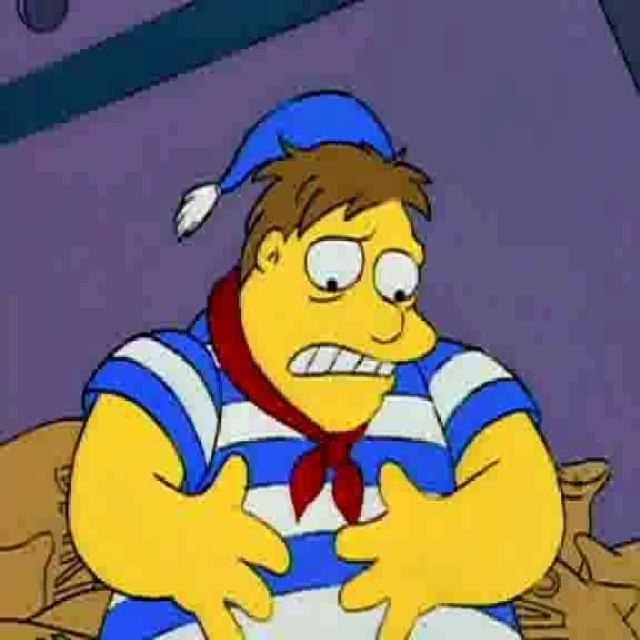Barney Gumble: (233, 134, 438, 438)
